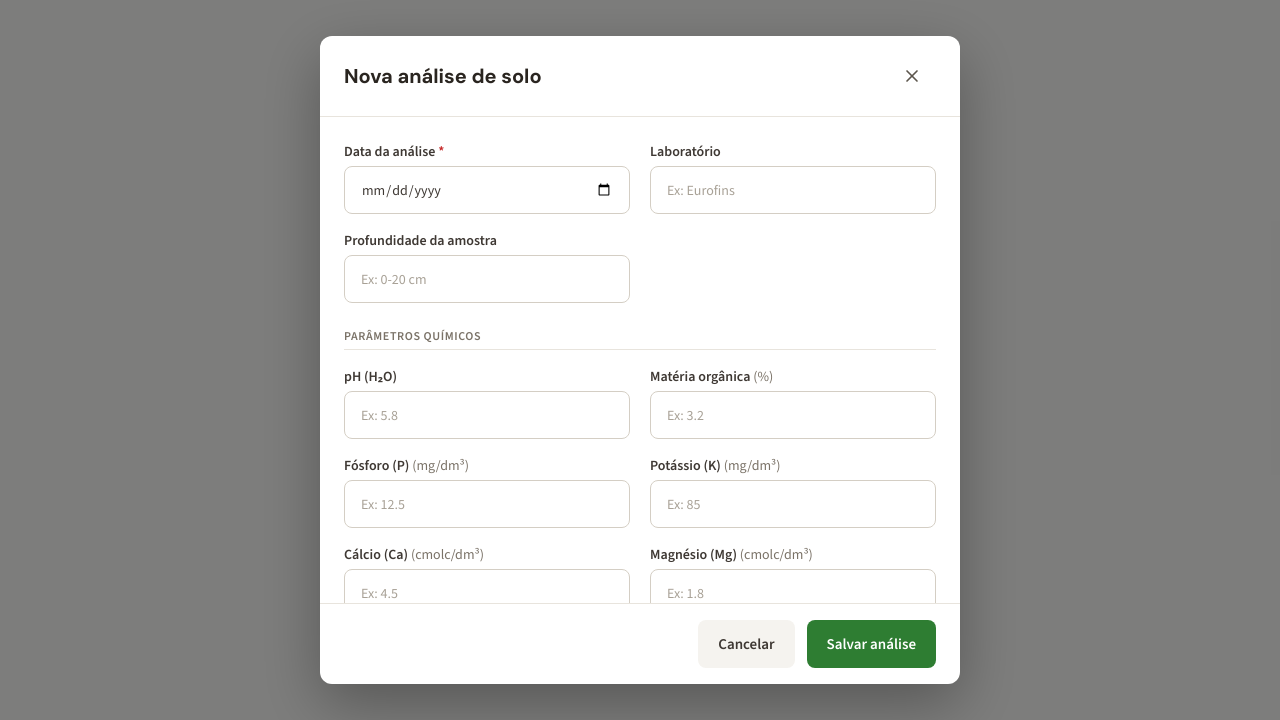
Test: AddSoilAnalysisModal › shows error when submitting without date
Click the button "Salvar análise" at (871, 644), box left=807, top=620, right=936, bottom=668
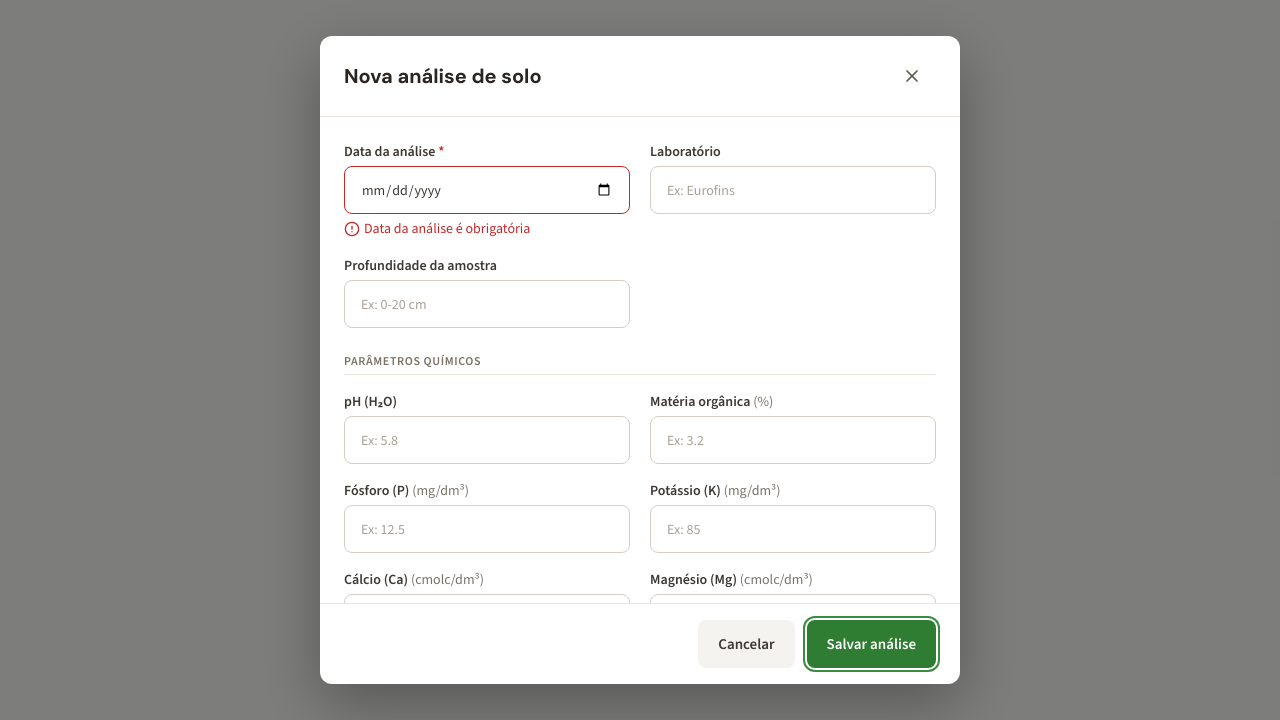
Check: the text "Data da análise é obrigatória" is shown, box left=344, top=219, right=530, bottom=238
